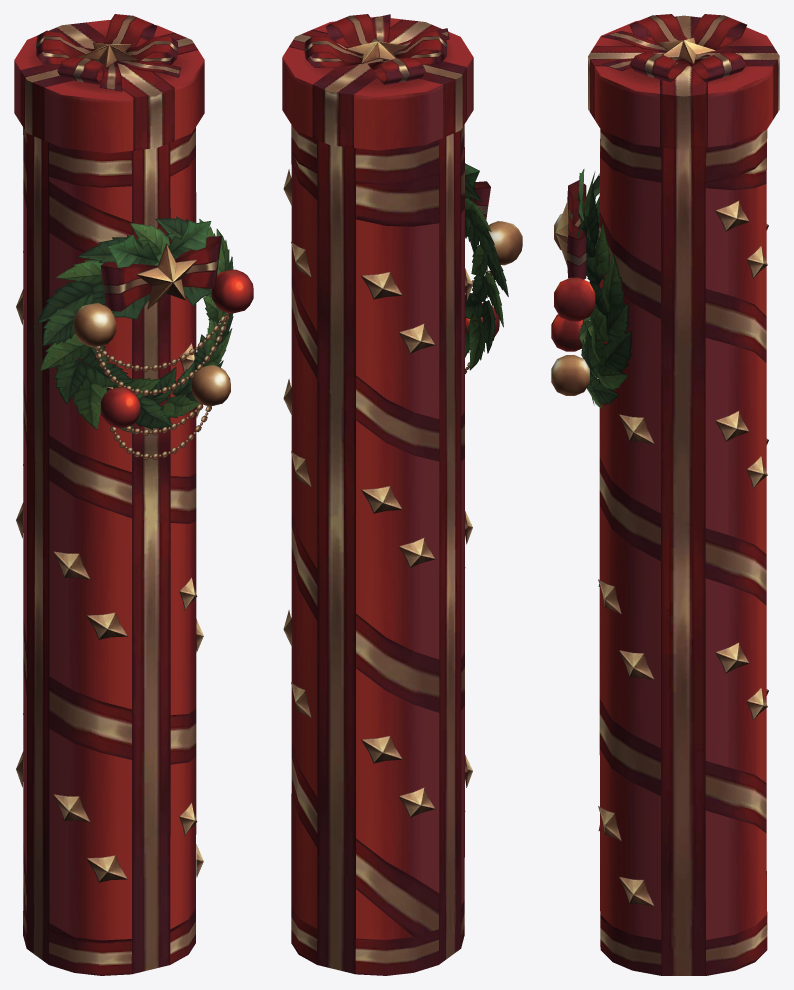
Rendered from Hero_Ricardo_Cos18Christmas_Weapon.fbx.
3 renders of one model, left to right at view 1: azimuth 30°, elevation 25°; view 2: azimuth 150°, elevation 25°; view 3: azimuth 270°, elevation 25°, orthographic.
Parts seen in each view (by area): view 1: Hero_Ricardo_Cos18Christmas_Weapon; view 2: Hero_Ricardo_Cos18Christmas_Weapon; view 3: Hero_Ricardo_Cos18Christmas_Weapon.
Part boxes in pixels (x1,y1,x2,y2): Hero_Ricardo_Cos18Christmas_Weapon: (14, 14, 253, 975); Hero_Ricardo_Cos18Christmas_Weapon: (282, 14, 522, 975); Hero_Ricardo_Cos18Christmas_Weapon: (551, 14, 779, 975).
Bounding box in the file's own units: 0.4647 × 2 × 0.4593.
Materials: 1 (1 with a texture image).
